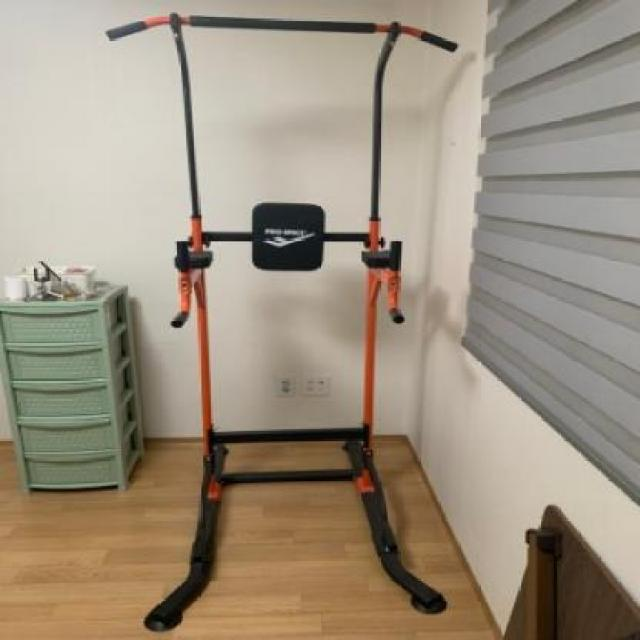chinning dipping: (106, 12, 462, 631)
